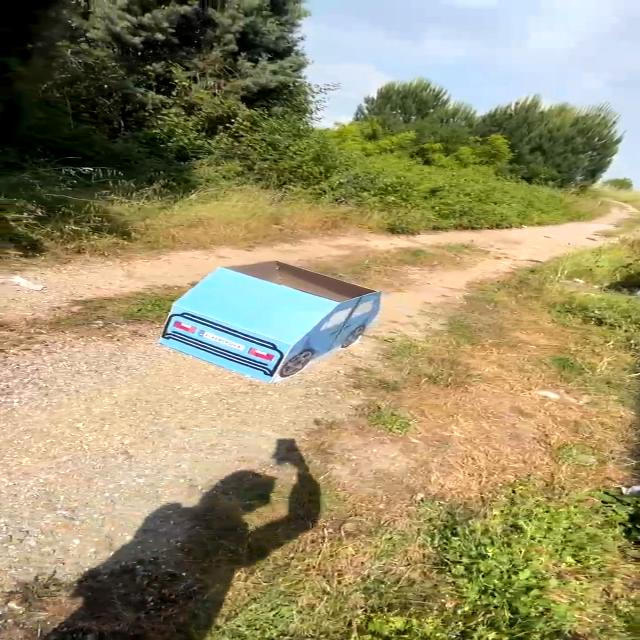blue_car: (140, 252, 397, 395)
